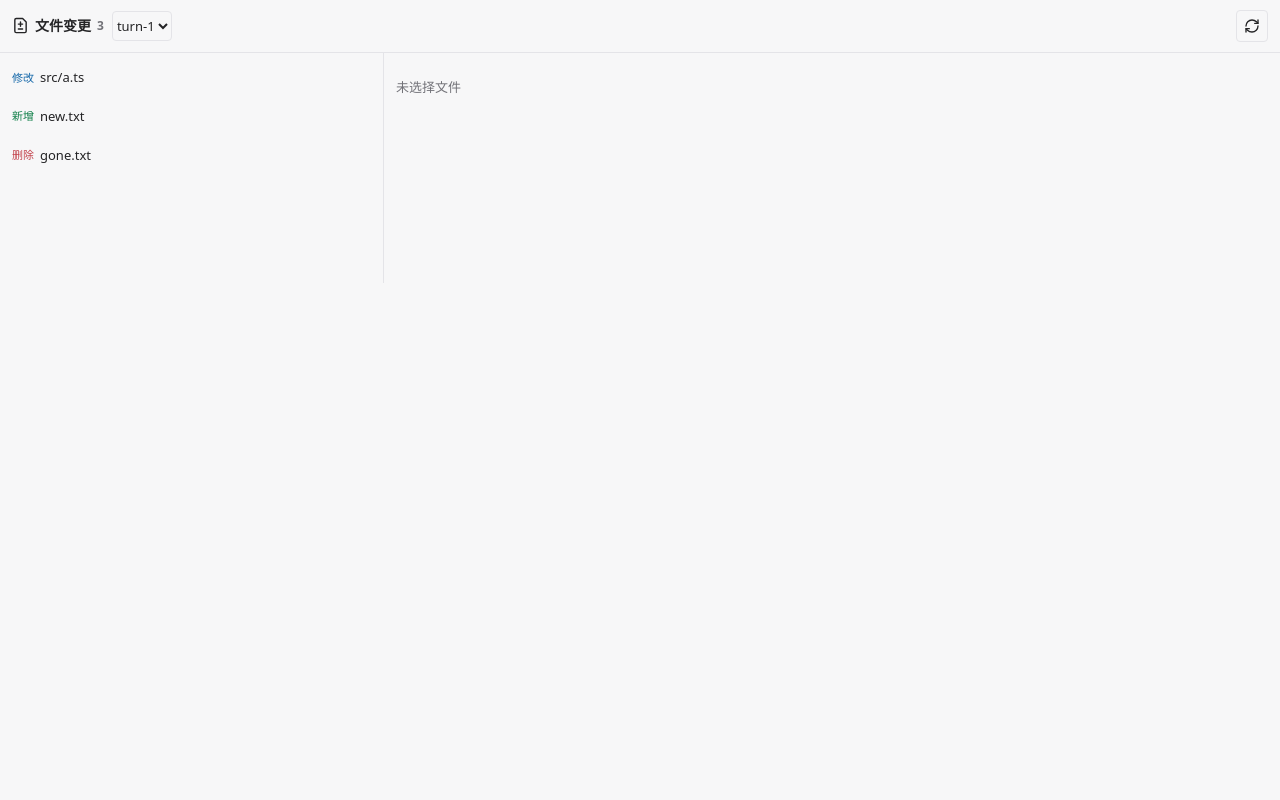
FileReview › preserves conflicts and offers refresh instead of force restore
The image size is (1280, 800).
Step 1. Click the button "修改 src/a.ts" → [62, 77], box [6,59,377,96]
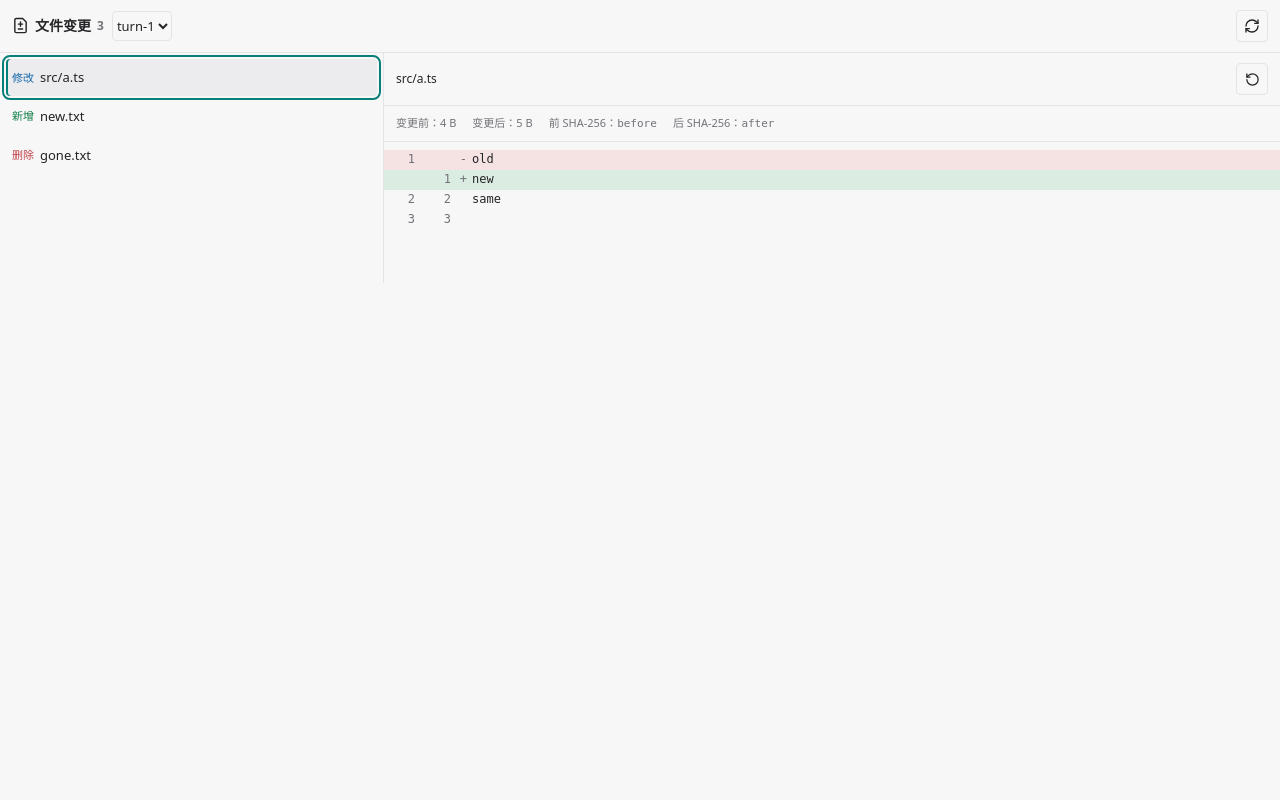
Result: the text "old" is shown at [472,152,494,166]
Step 2. Click the button named "恢复此文件" → [1252, 79], box [1236,63,1268,95]
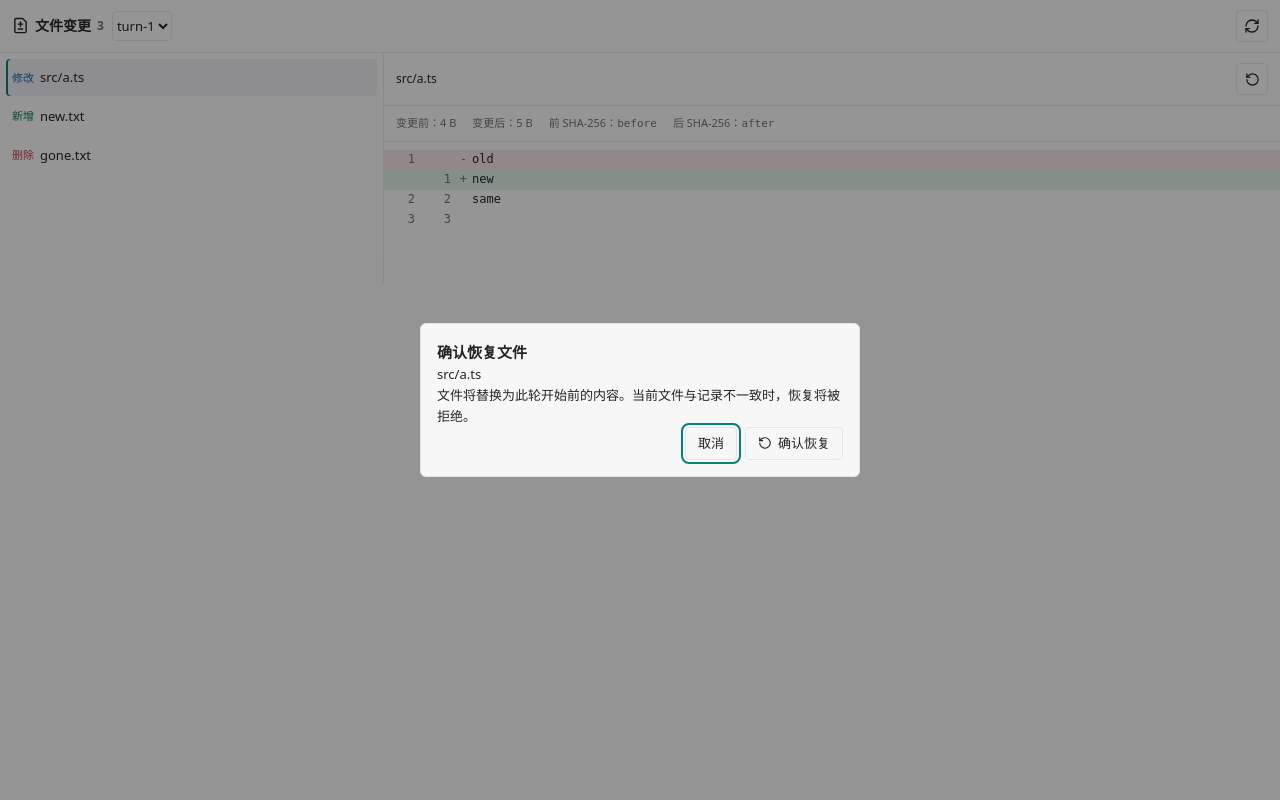
Step 3. Click the button "确认恢复" → [794, 443], box [745,427,843,460]
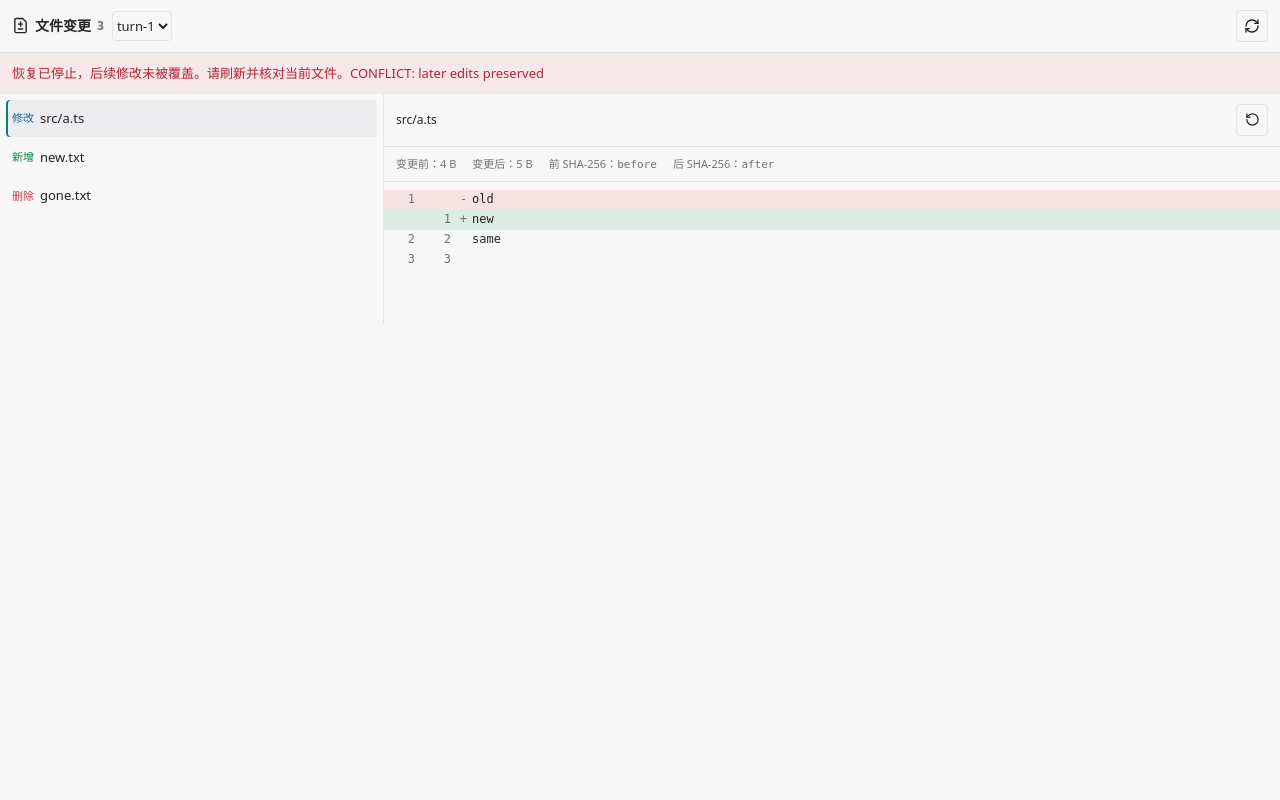
Expected: the button named "刷新变更" is enabled, [1236,10,1268,42]
Result: the message shows "later edits preserved" at [12,64,544,82]
